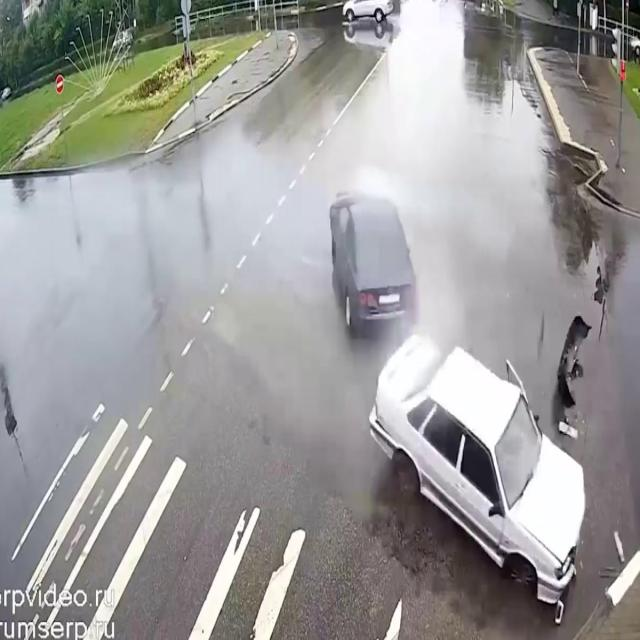accident: (314, 168, 598, 639)
